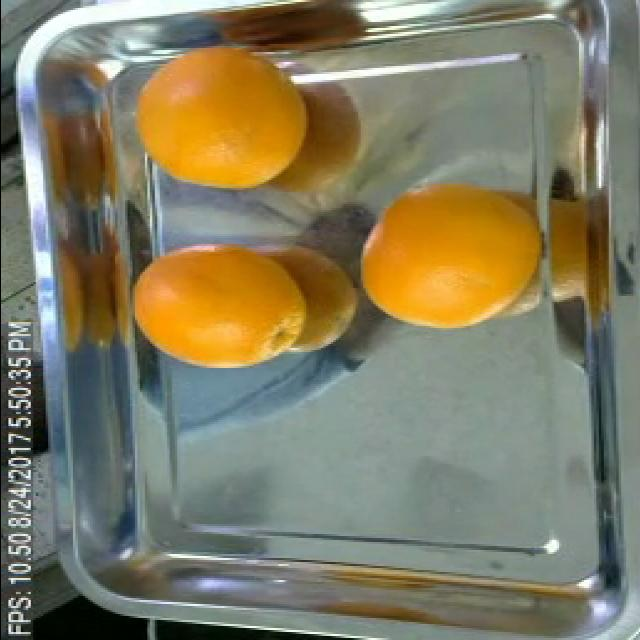Fruit: (340, 166, 558, 348), (111, 50, 332, 210), (114, 238, 330, 384)
